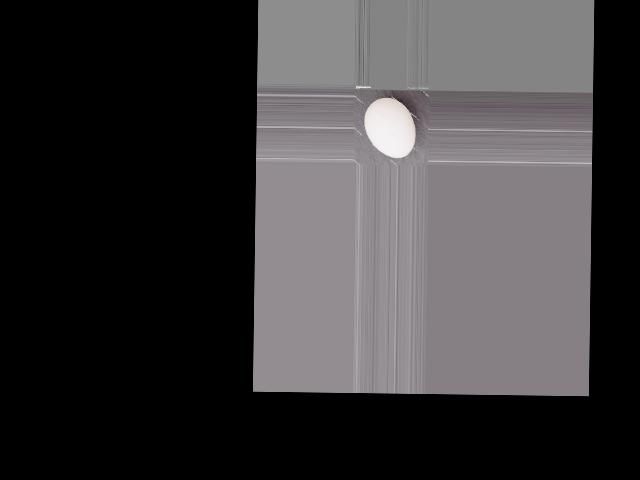egg: (364, 97, 416, 157)
